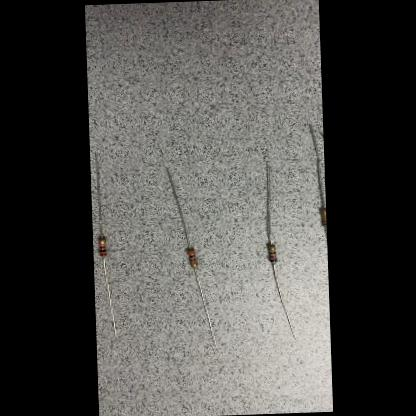resistor: (186, 247, 196, 268), (98, 236, 107, 256), (268, 245, 276, 264), (320, 206, 326, 226)
wire: (166, 166, 190, 248), (272, 263, 296, 340), (193, 268, 216, 346), (308, 124, 324, 206), (102, 258, 116, 338), (264, 160, 272, 244), (94, 153, 101, 237)
